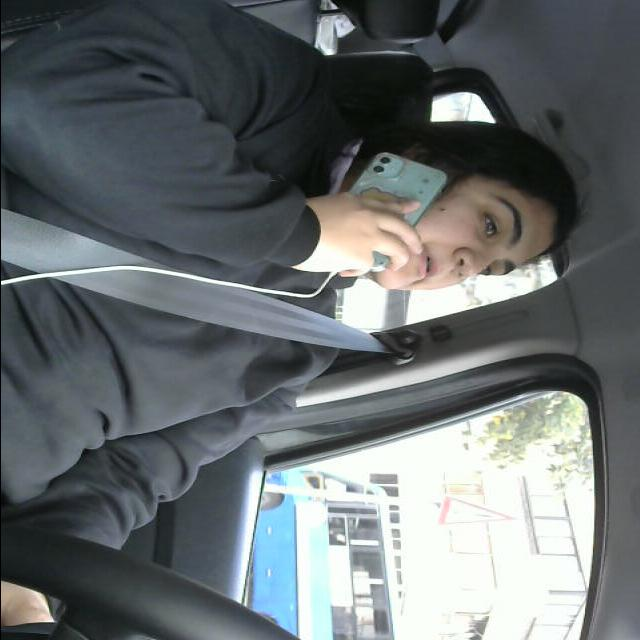mobile use: (308, 148, 460, 272)
